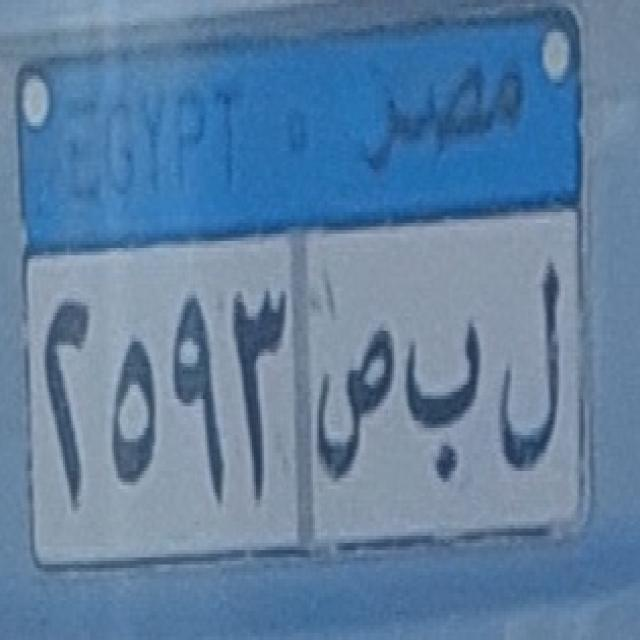2: (30, 286, 103, 526)
3: (229, 277, 295, 527)
5: (104, 324, 168, 498)
9: (169, 282, 234, 524)
Laam: (486, 254, 574, 491)
Saad: (308, 306, 405, 492)
baa: (403, 314, 488, 492)
